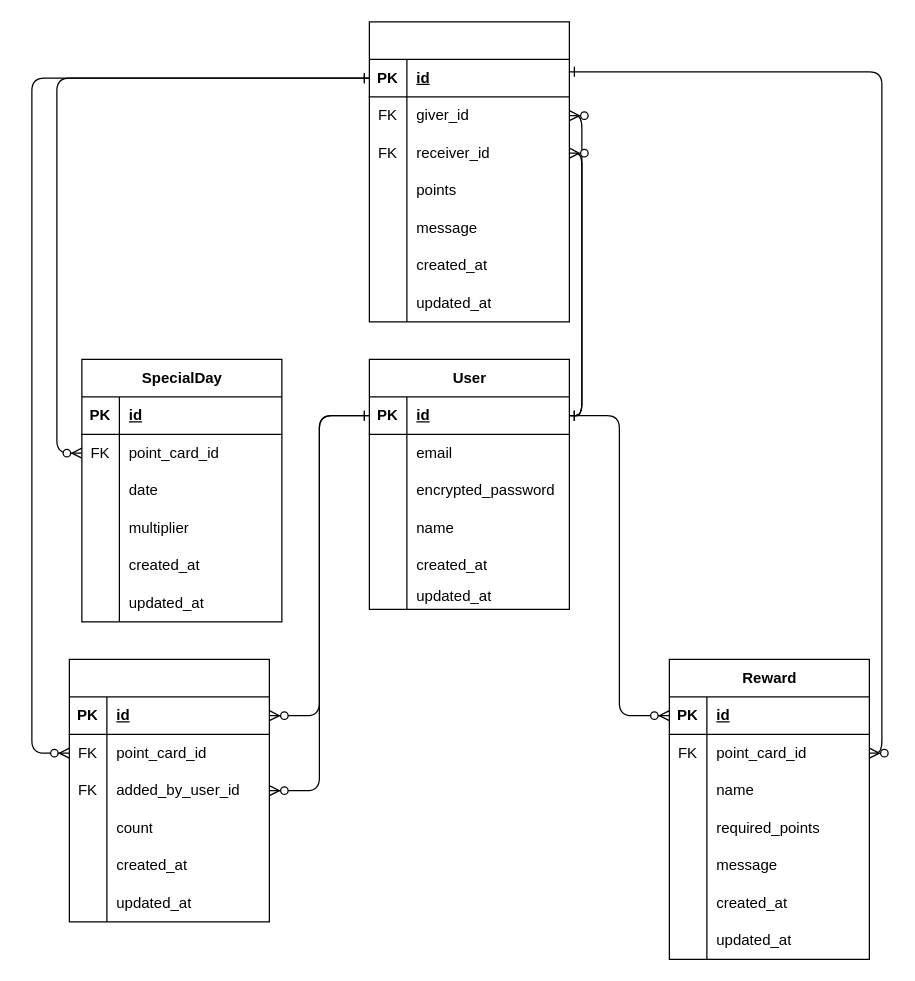
Some shapes in this 915 by 981 pixel diagram are drawn without their labels. The shapes that lost their labels are listed below. From the top down, each one's box as (x1, y1, x2, y2) in pixels, then its label:
(368, 21, 569, 322): PointCard
(68, 658, 269, 922): PointRecord
